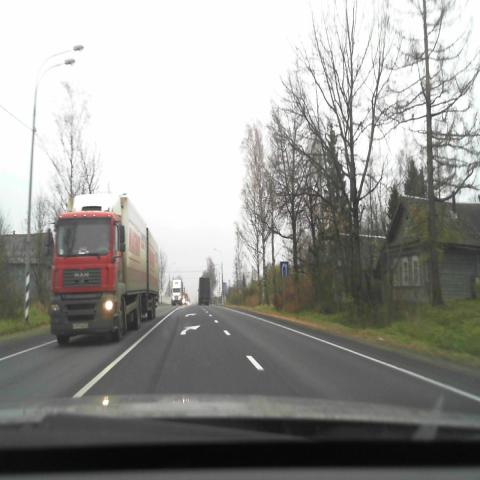5_15_5: (280, 260, 288, 276)
